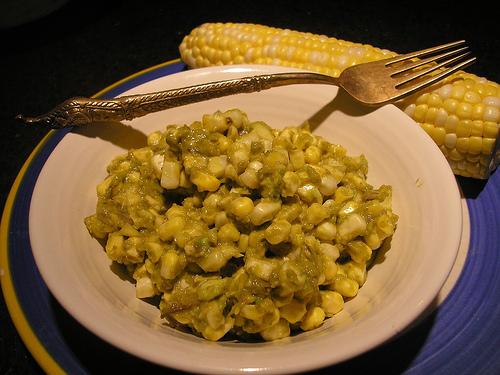corn: (176, 20, 499, 181)
